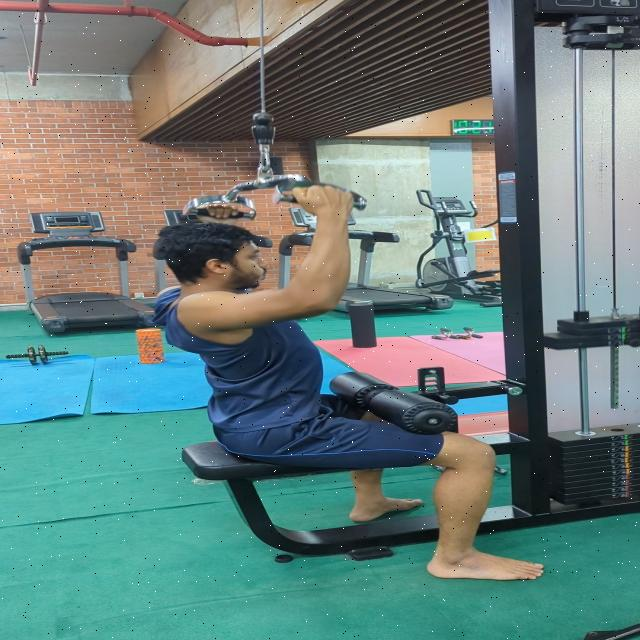Normal_LatPulldown: (118, 177, 575, 590)
